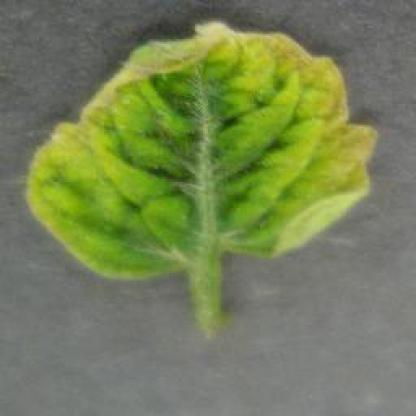bad leaf: (50, 27, 339, 253)
